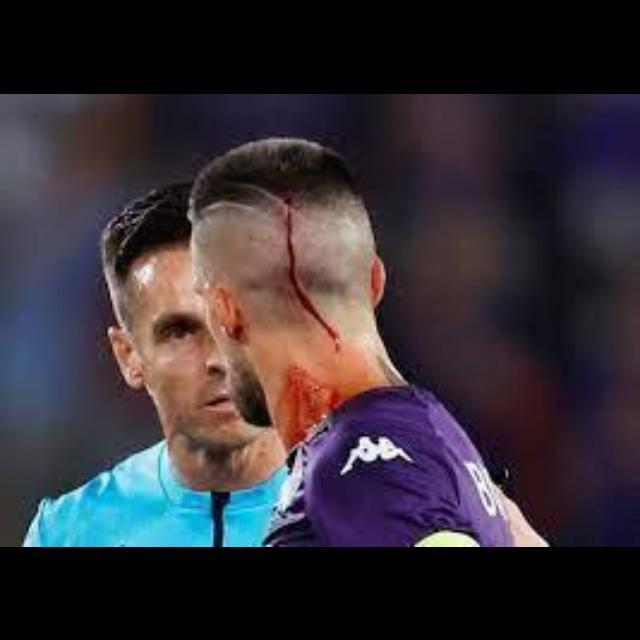blood: (286, 198, 340, 348), (278, 364, 340, 448)
